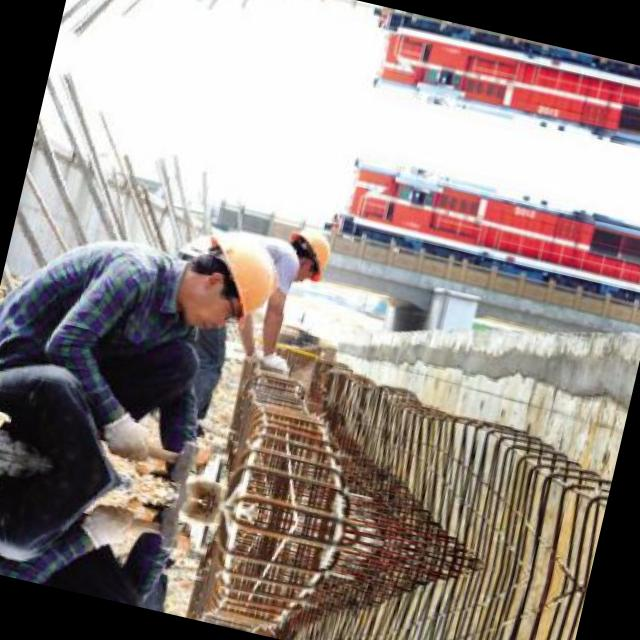helmet: (166, 210, 303, 350), (282, 224, 336, 282)
